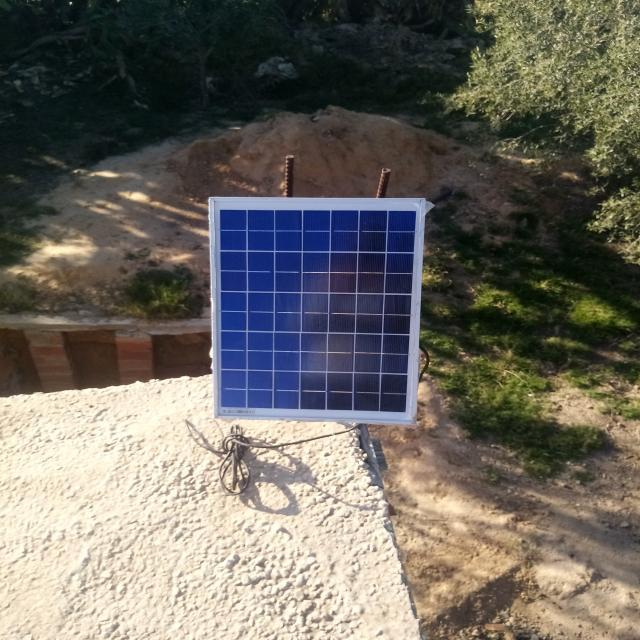no faulty: (210, 198, 423, 423)
